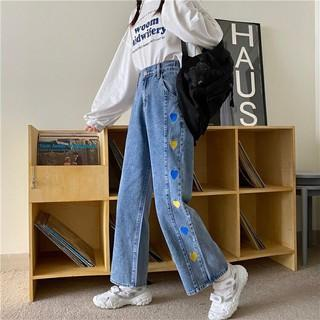pants: (118, 69, 216, 290)
sweater: (86, 0, 223, 130)
